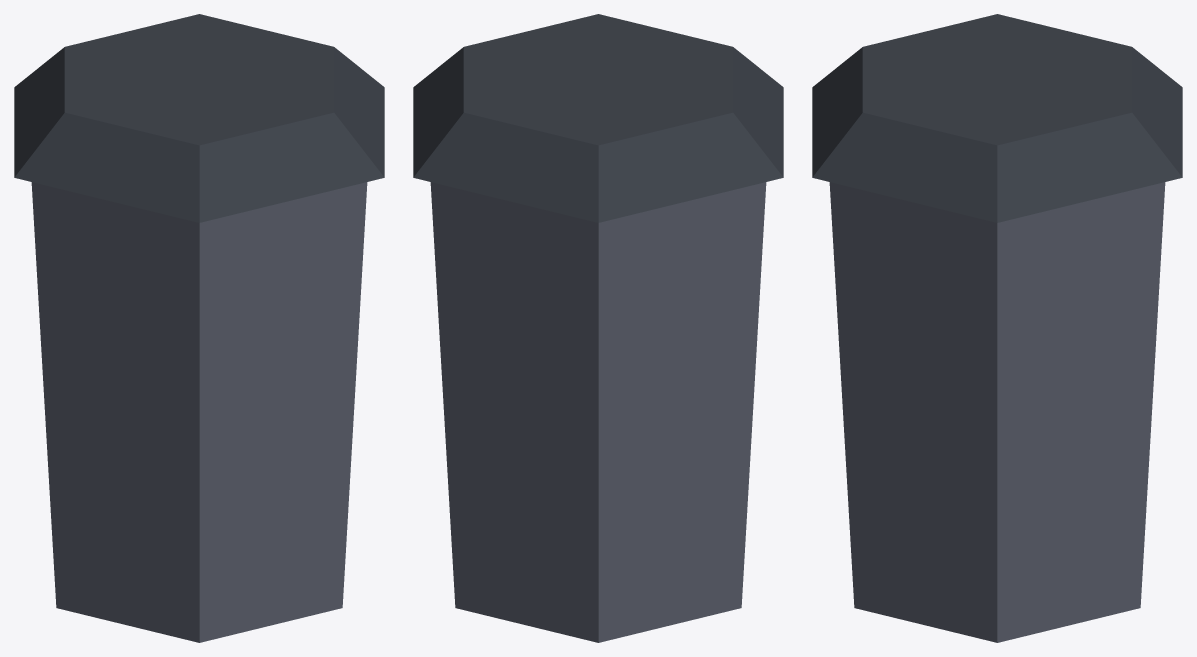
The model's file is P_Trash.fbx.
3 renders of one model, left to right at view 1: azimuth 30°, elevation 25°; view 2: azimuth 150°, elevation 25°; view 3: azimuth 270°, elevation 25°, orthographic.
Parts seen in each view (by area): view 1: P_Trash.003; view 2: P_Trash.003; view 3: P_Trash.003.
Boxes of the visible parts, x1,y1,x2,y2 form: P_Trash.003: [14, 14, 384, 642]; P_Trash.003: [413, 14, 783, 642]; P_Trash.003: [812, 14, 1182, 642].
Size of the model in its own units: 0.44 by 0.56 by 0.3811.
